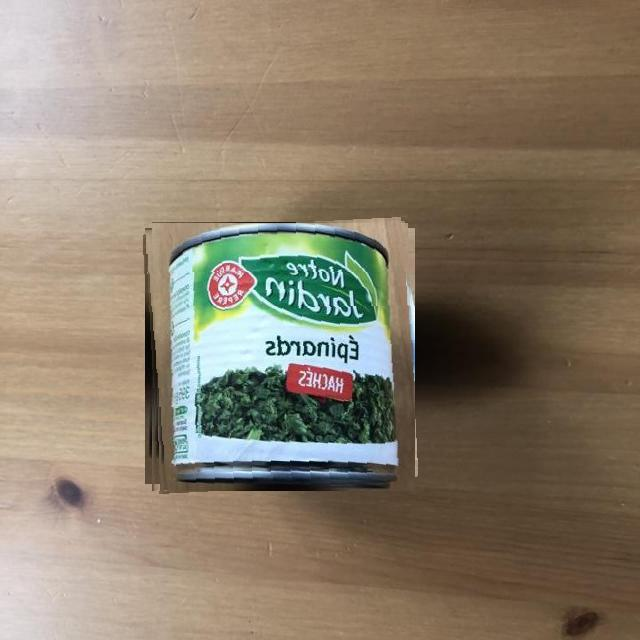recyclable: (146, 221, 415, 491)
